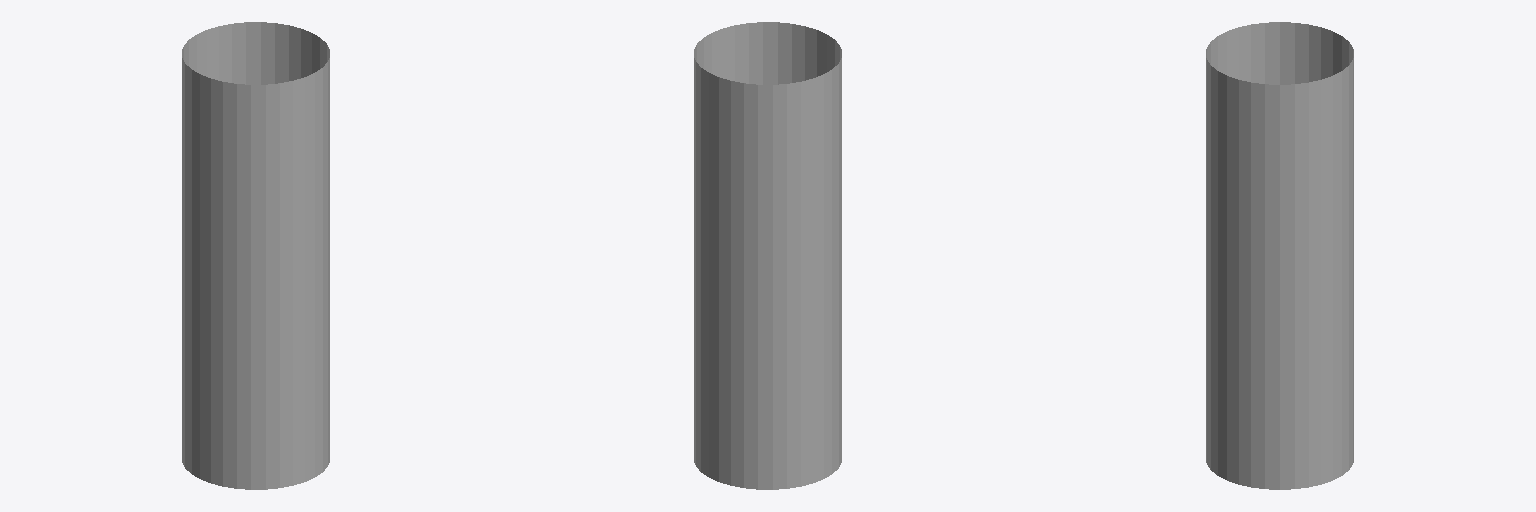
Rendered from tunel.obj.
3 renders of one model, left to right at view 1: azimuth 30°, elevation 25°; view 2: azimuth 150°, elevation 25°; view 3: azimuth 270°, elevation 25°, orthographic.
Visible parts, largest first — view 1: Cylinder; view 2: Cylinder; view 3: Cylinder.
Boxes of the visible parts, <box> form: Cylinder: <box>182,22,329,489</box>; Cylinder: <box>694,22,841,489</box>; Cylinder: <box>1206,22,1353,489</box>.
Bounding box in the file's own units: 40 × 120 × 40.